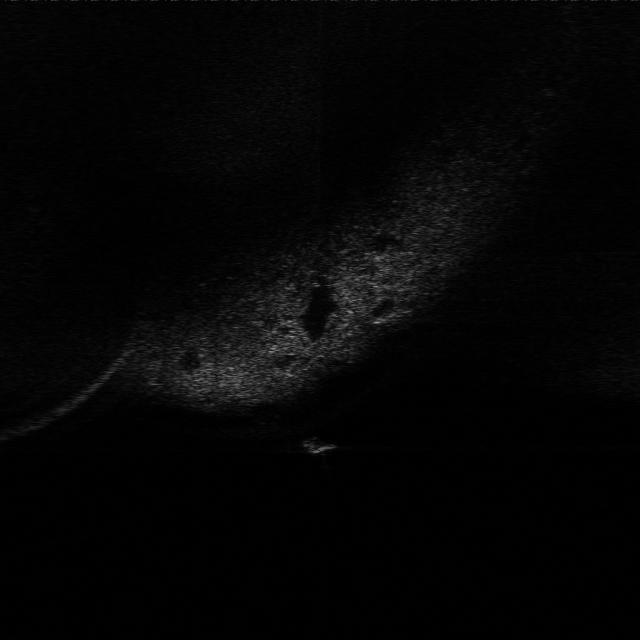cube: (298, 431, 338, 459)
